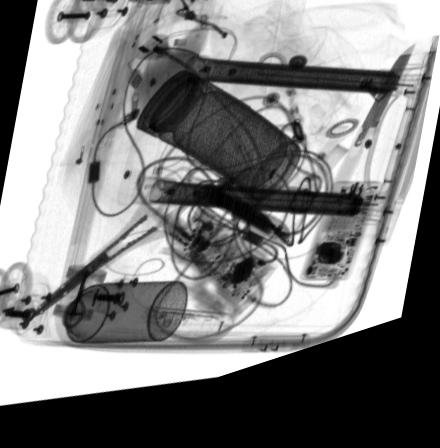Knife: (325, 64, 420, 225)
Powerbank: (203, 200, 296, 261)
Scissors: (30, 175, 212, 319)
Sprayer: (52, 285, 187, 350)
